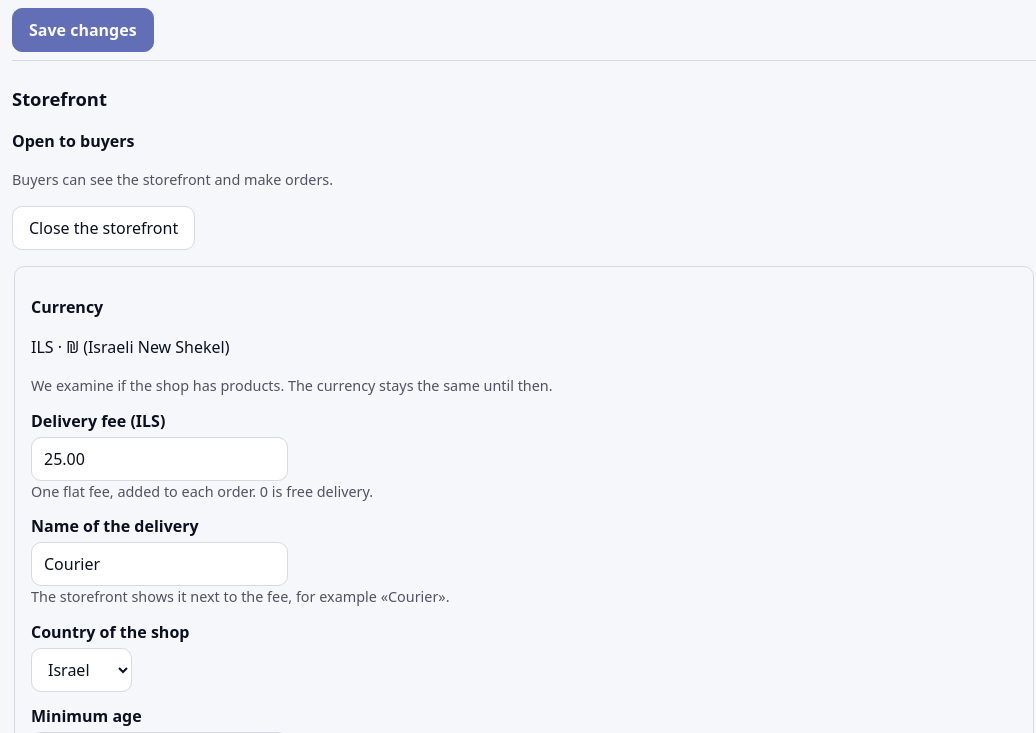
Test case: the storefront switch › closes an open storefront
expect the element showing "Open to buyers" is shown: met, box [12,130,134,152]
Click the button "Close the storefront" at (104, 228), box [12,206,195,250]
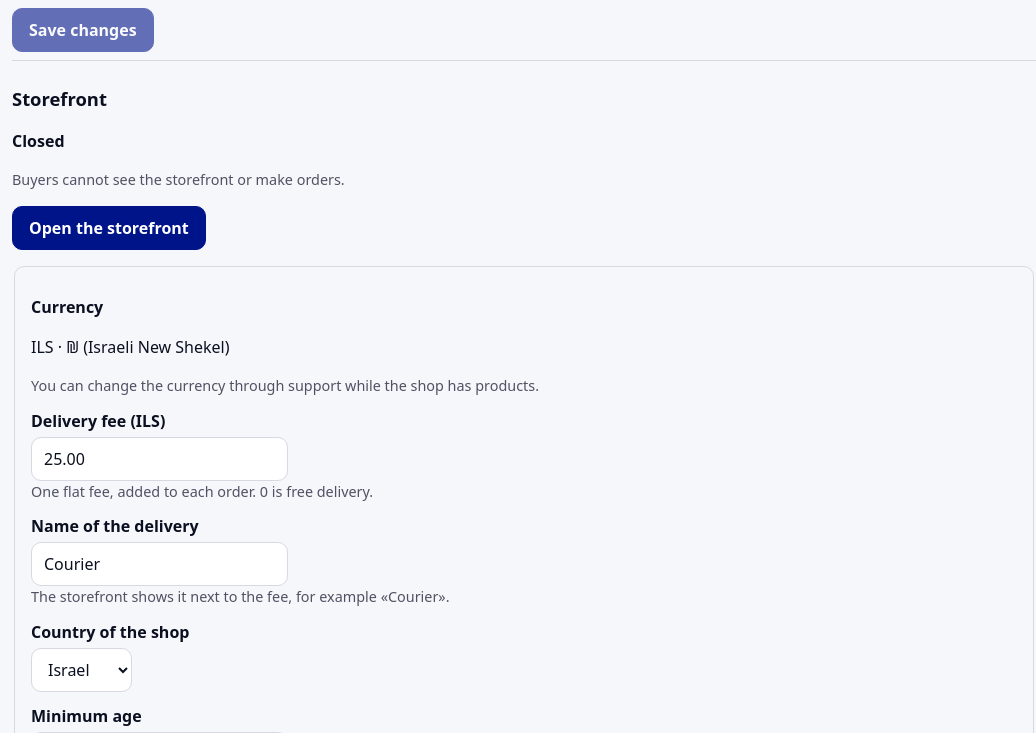
expect the element showing "Closed" is shown: met, box [12,130,64,152]
